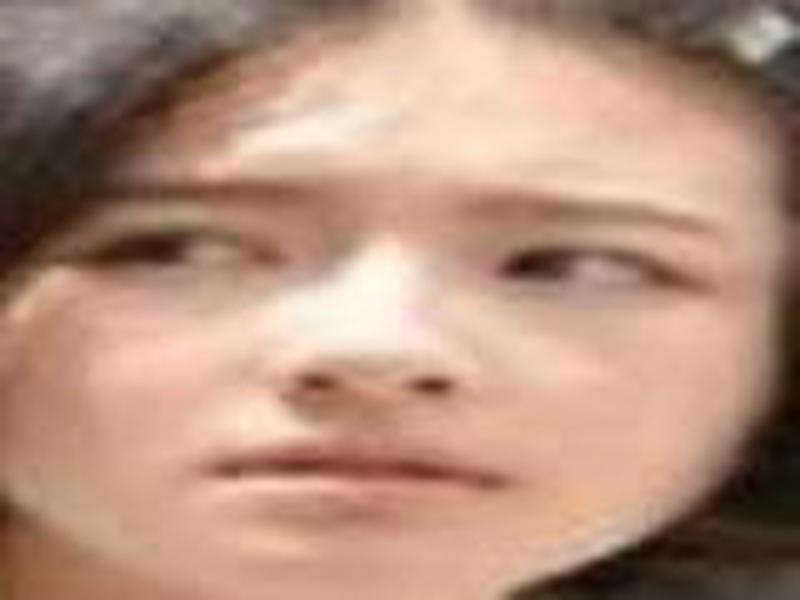without_mask: (4, 44, 780, 600)
